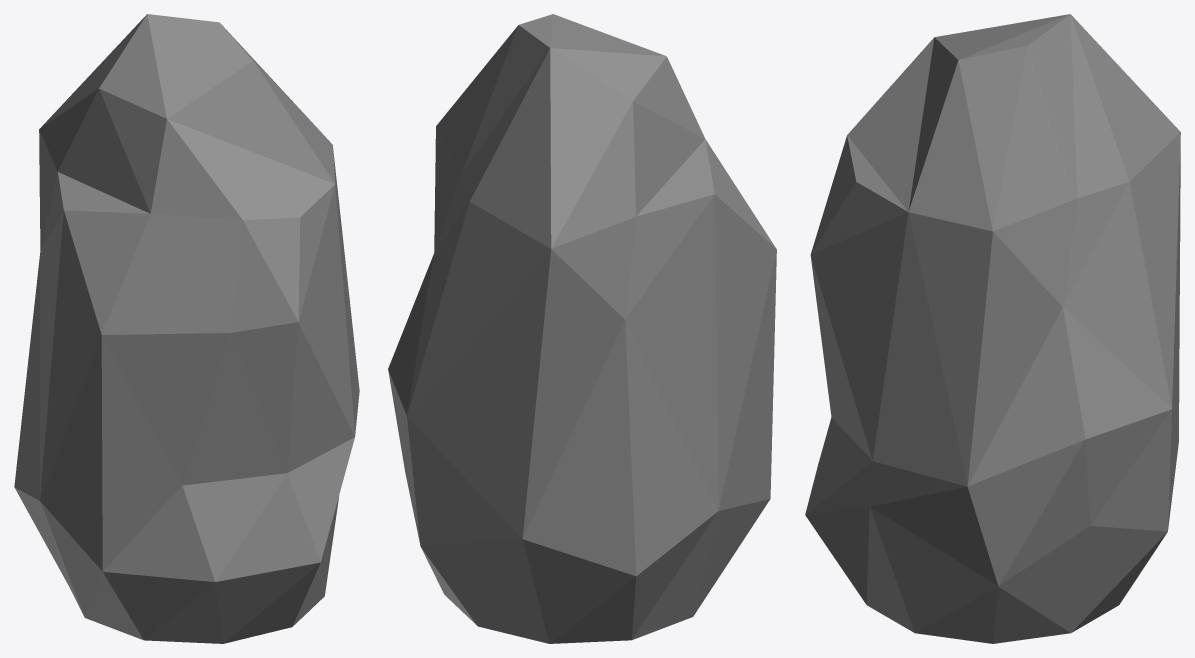
File: Stalagmite 2.fbx
The picture shows the model from 3 angles, left to right: view 1: azimuth 30°, elevation 25°; view 2: azimuth 150°, elevation 25°; view 3: azimuth 270°, elevation 25°; orthographic projection. The views are drawn at different scales.
Parts seen in each view (by area): view 1: Stalagmite_2; view 2: Stalagmite_2; view 3: Stalagmite_2.
Boxes of the visible parts, x1,y1,x2,y2 form: Stalagmite_2: [14, 14, 359, 643]; Stalagmite_2: [388, 14, 776, 643]; Stalagmite_2: [805, 14, 1180, 643].
Bounding box in the file's own units: 111 × 197 × 118.
Materials: 1 (1 with a texture image).
